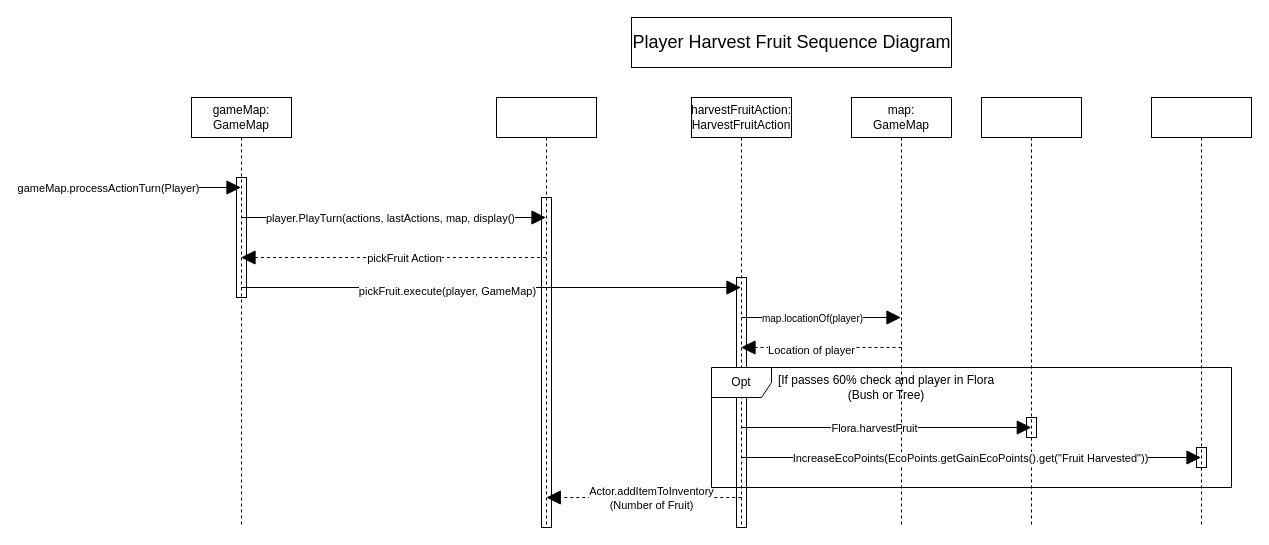
This 1269x545 diagram has some shape labels left out. The shapes that lost their labels are listed below. From the top down, each one's box as (x1, y1, x2, y2) in pixels, then its label:
(496, 96, 596, 528): player:Player
(980, 96, 1082, 528): Flora (bush:Bush OR tree:Tree)
(1150, 96, 1252, 528): ecoPoints: EcoPoints
